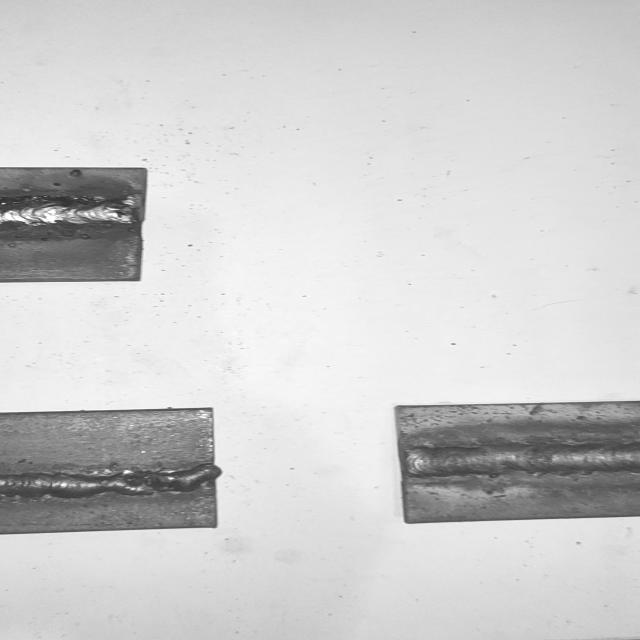Bad Weld: (0, 466, 214, 503)
Defect: (113, 454, 211, 504)
Good Weld: (403, 440, 640, 478), (0, 203, 140, 229)
